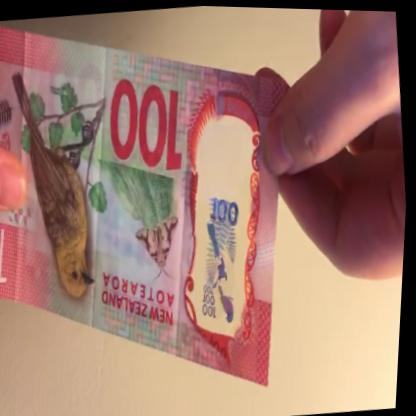100B: (185, 168, 258, 327)
